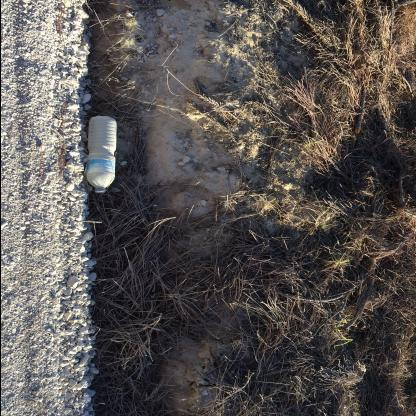plastik: (85, 115, 117, 194)
